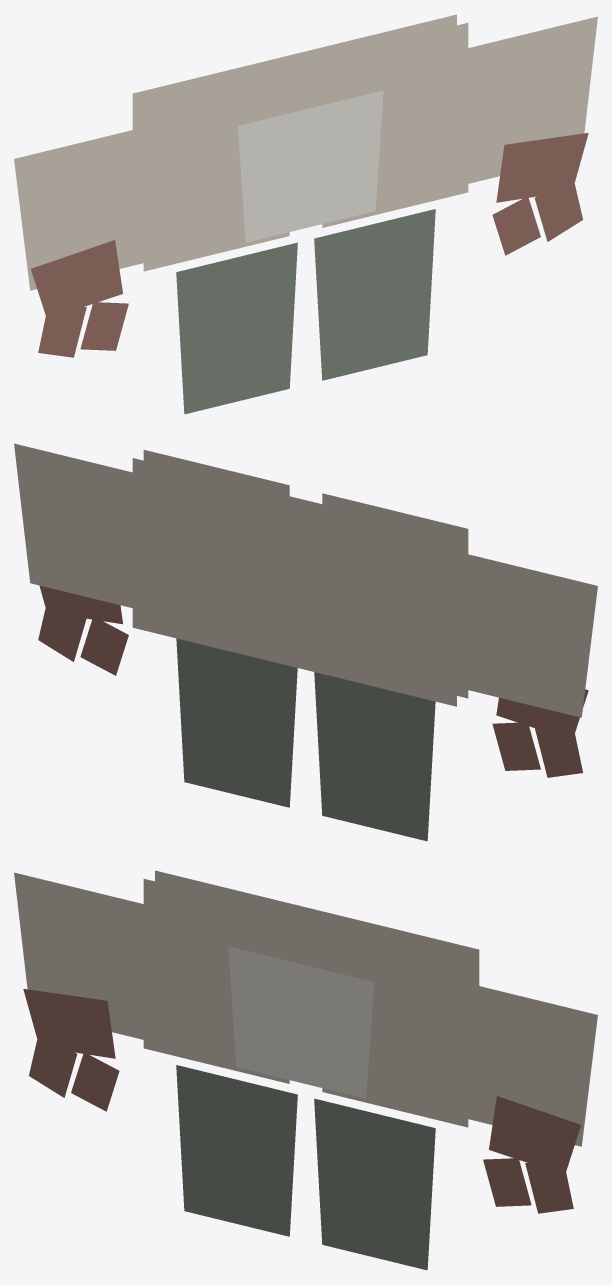
The model's file is linen-breeze-structural.obj.
3 views of the same model, one above another, from view 1: azimuth 30°, elevation 25°; view 2: azimuth 150°, elevation 25°; view 3: azimuth 330°, elevation 25° (orthographic).
Parts seen in each view (by area): view 1: cardigan_front_L, cardigan_front_R, camisole_front, short_front_L, short_front_R, sleeve_R, sleeve_L, cardigan_back, knot_gusset_R, knot_gusset_L, ribbon_tail_L_A, ribbon_tail_R_A (+2 smaller); view 2: cardigan_back, sleeve_L, short_front_L, short_front_R, sleeve_R, cardigan_front_L, ribbon_tail_L_B, ribbon_tail_R_B, cardigan_front_R, ribbon_tail_L_A, ribbon_tail_R_A, knot_facing_L (+3 smaller); view 3: cardigan_front_R, cardigan_front_L, camisole_front, short_front_R, short_front_L, sleeve_L, sleeve_R, cardigan_back, knot_gusset_L, knot_gusset_R, ribbon_tail_R_A, ribbon_tail_L_A (+2 smaller).
Part boxes in pixels (x1,y1,x2,y2): cardigan_front_L: (143, 66, 289, 271); cardigan_front_R: (322, 23, 468, 227); camisole_front: (237, 90, 383, 242); short_front_L: (176, 242, 297, 414); short_front_R: (314, 209, 435, 380); sleeve_R: (468, 16, 597, 183); sleeve_L: (14, 127, 143, 290); cardigan_back: (132, 14, 456, 129); knot_gusset_R: (496, 133, 588, 202); knot_gusset_L: (31, 240, 122, 315); ribbon_tail_L_A: (38, 306, 86, 357); ribbon_tail_R_A: (534, 178, 582, 241); cardigan_back: (132, 458, 456, 706); sleeve_L: (468, 554, 597, 717); short_front_L: (314, 672, 435, 841); short_front_R: (176, 638, 297, 807); sleeve_R: (14, 443, 132, 607); cardigan_front_L: (322, 493, 468, 698); ribbon_tail_L_B: (492, 722, 540, 770); ribbon_tail_R_B: (80, 619, 128, 675); cardigan_front_R: (143, 450, 289, 495); ribbon_tail_L_A: (535, 728, 582, 777); ribbon_tail_R_A: (38, 608, 86, 661); knot_facing_L: (499, 698, 569, 733); cardigan_front_R: (322, 922, 468, 1127); cardigan_front_L: (143, 879, 289, 1083); camisole_front: (228, 946, 374, 1098); short_front_R: (314, 1098, 435, 1270); short_front_L: (176, 1065, 297, 1236); sleeve_L: (14, 872, 143, 1039); sleeve_R: (468, 983, 597, 1146); cardigan_back: (155, 870, 479, 985); knot_gusset_L: (23, 989, 115, 1058); knot_gusset_R: (489, 1096, 580, 1171); ribbon_tail_R_A: (525, 1162, 573, 1213); ribbon_tail_L_A: (29, 1034, 77, 1097).
Size of the model in its own units: 3.6 by 1.9 by 0.17.
